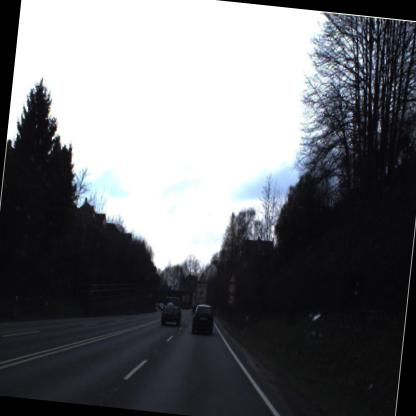danger: (228, 270, 239, 287)
prohibitory: (224, 292, 235, 310), (225, 282, 237, 297)
